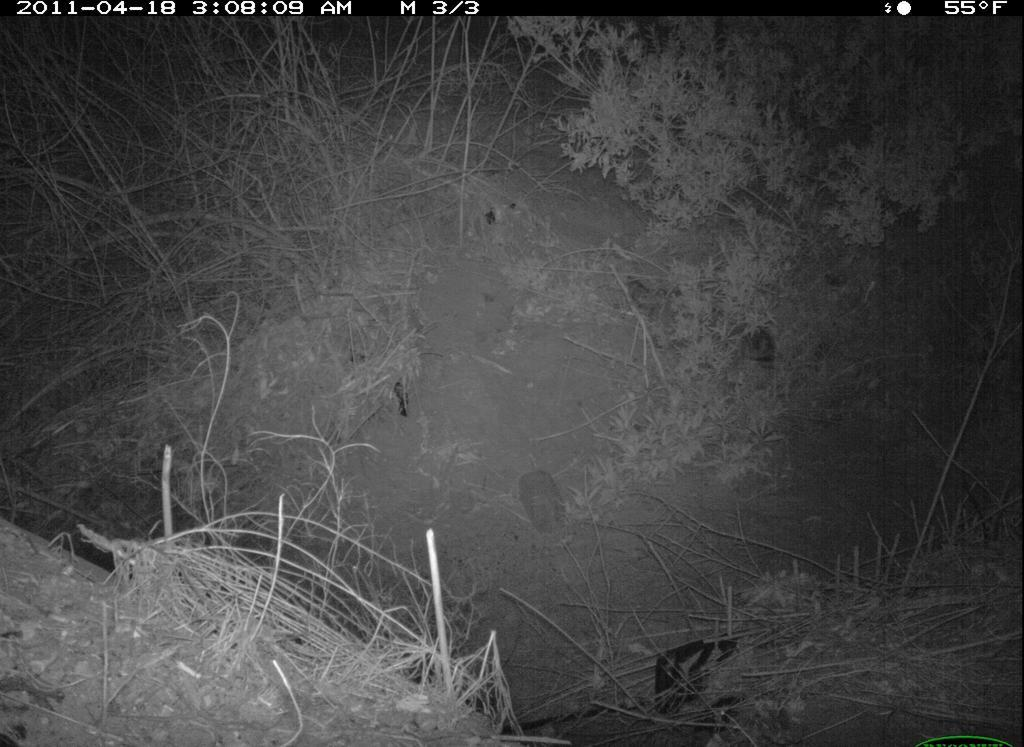raccoon: (628, 267, 798, 379)
